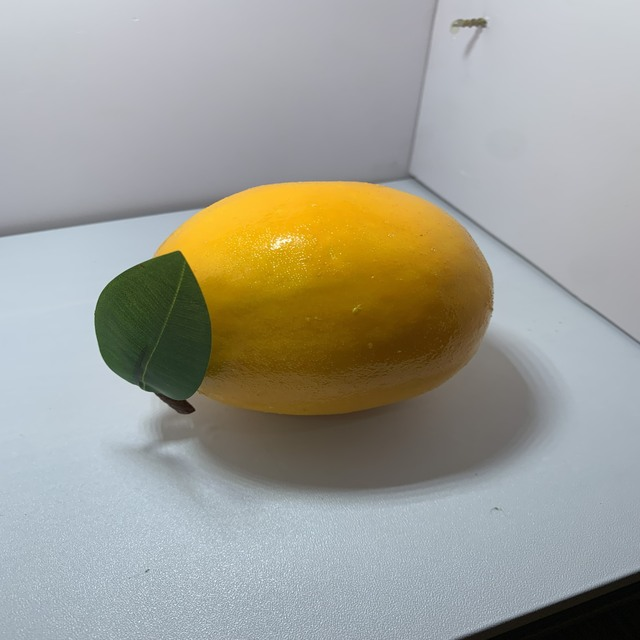Cam vang: (143, 177, 497, 421)
